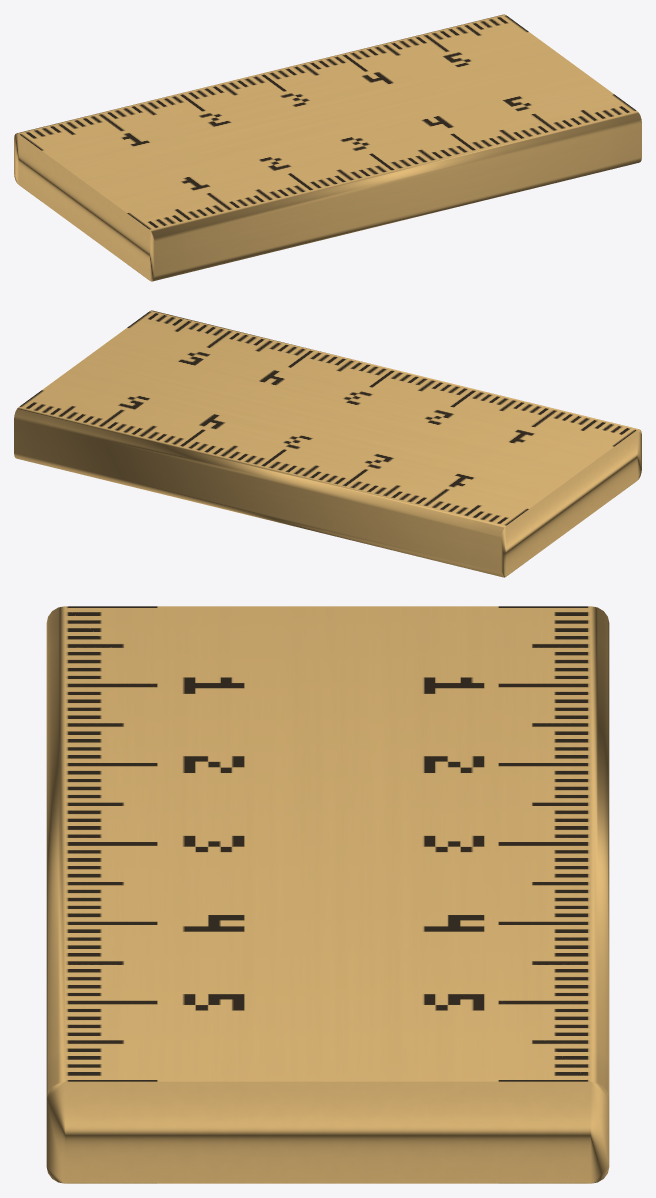
File: ruler-section.fbx
The picture shows the model from 3 angles, top to bottom: view 1: azimuth 30°, elevation 25°; view 2: azimuth 150°, elevation 25°; view 3: azimuth 270°, elevation 25°; orthographic projection. The views are drawn at different scales.
Parts seen in each view (by area): view 1: ruler-section; view 2: ruler-section; view 3: ruler-section.
Boxes of the visible parts, x1,y1,x2,y2 form: ruler-section: (14,14,641,281); ruler-section: (14,310,641,577); ruler-section: (46,606,609,1183).
Bounding box in the file's own units: 6000 × 600 × 3000.
Materials: 1 (1 with a texture image).
